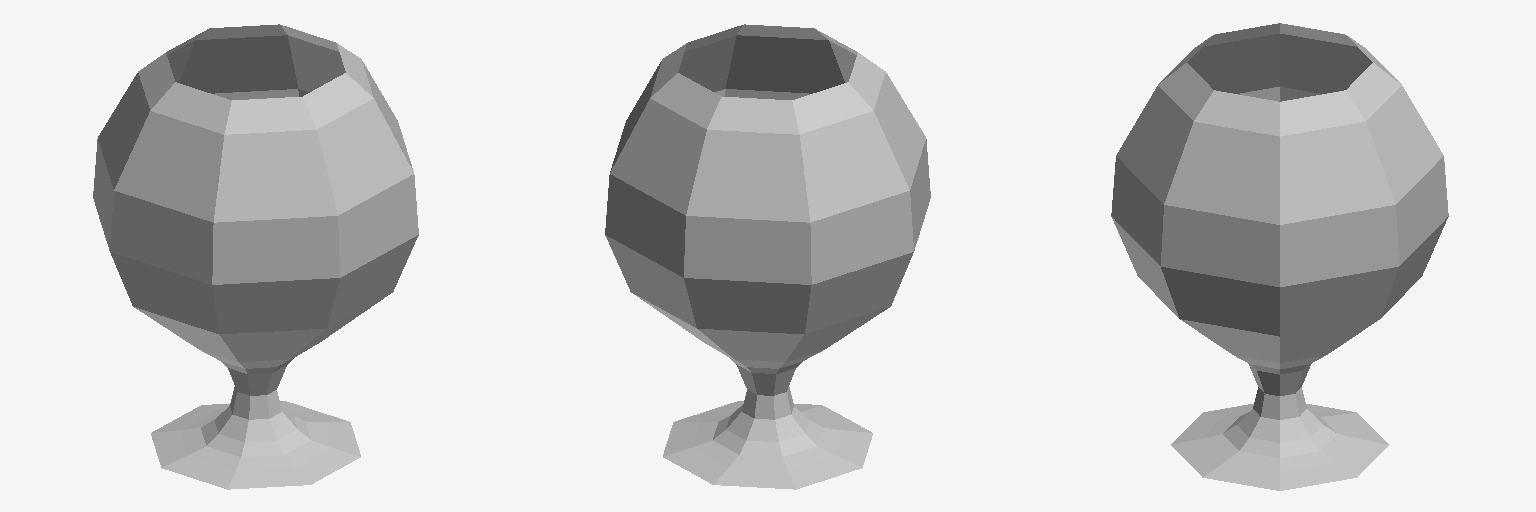
File: sercups_cognac_balloon.obj
The picture shows the model from 3 angles: view 1: azimuth 30°, elevation 25°; view 2: azimuth 150°, elevation 25°; view 3: azimuth 270°, elevation 25°; orthographic projection.
Visible parts, largest first — view 1: sercups_cognac_balloon_Cylinder.105; view 2: sercups_cognac_balloon_Cylinder.105; view 3: sercups_cognac_balloon_Cylinder.105.
Part boxes in pixels (x1,y1,x2,y2): sercups_cognac_balloon_Cylinder.105: (93,24,418,489); sercups_cognac_balloon_Cylinder.105: (605,24,930,489); sercups_cognac_balloon_Cylinder.105: (1111,23,1448,490).
Size of the model in its own units: 2.21 by 2.8 by 2.21.